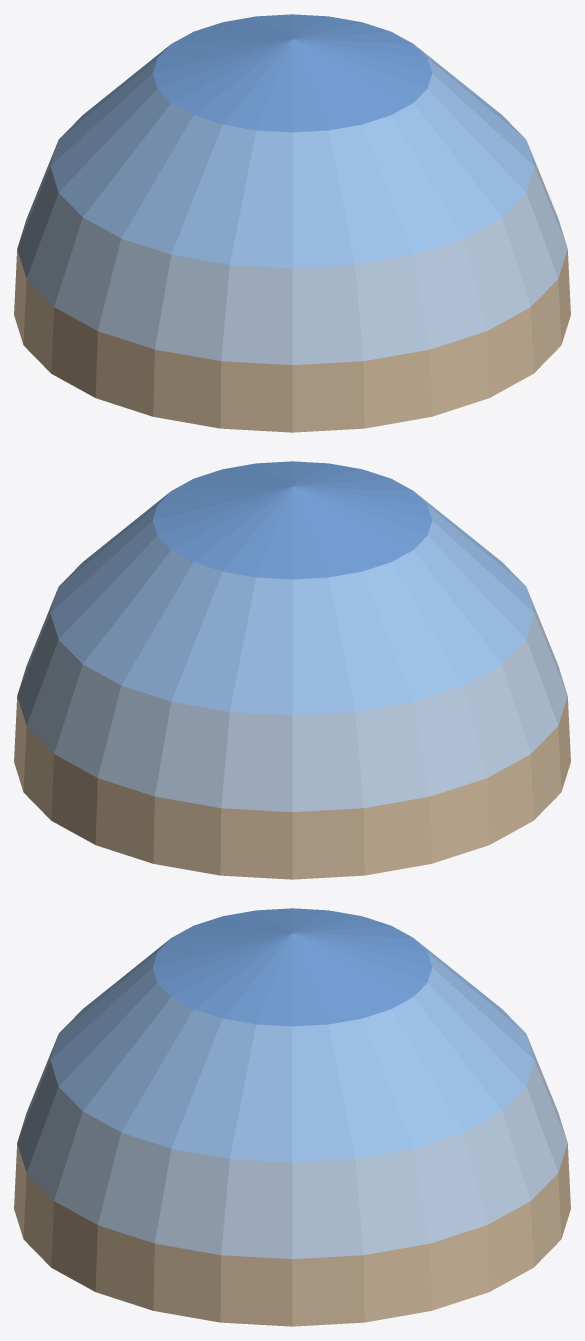
Rendered from sky_ocean_day.glb.
The picture shows the model from 3 angles, top to bottom: view 1: azimuth 30°, elevation 25°; view 2: azimuth 150°, elevation 25°; view 3: azimuth 270°, elevation 25°; orthographic projection.
Parts seen in each view (by area): view 1: skyband2, skyband1, skyband0, skyband3; view 2: skyband2, skyband1, skyband0, skyband3; view 3: skyband2, skyband1, skyband0, skyband3.
Part boxes in pixels (box(x1,y1,x2,y2)): skyband2: box(50, 44, 534, 268); skyband1: box(17, 142, 567, 365); skyband0: box(14, 249, 570, 432); skyband3: box(152, 14, 432, 132); skyband2: box(50, 491, 534, 715); skyband1: box(17, 589, 567, 812); skyband0: box(14, 696, 570, 879); skyband3: box(152, 461, 432, 579); skyband2: box(50, 938, 534, 1162); skyband1: box(17, 1036, 567, 1259); skyband0: box(14, 1143, 570, 1326); skyband3: box(152, 908, 432, 1026).
Bounding box in the file's own units: 179 × 97.84 × 179.
